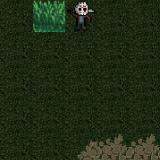Jason: (65, 0, 95, 32)
Slow: (33, 0, 65, 32)
